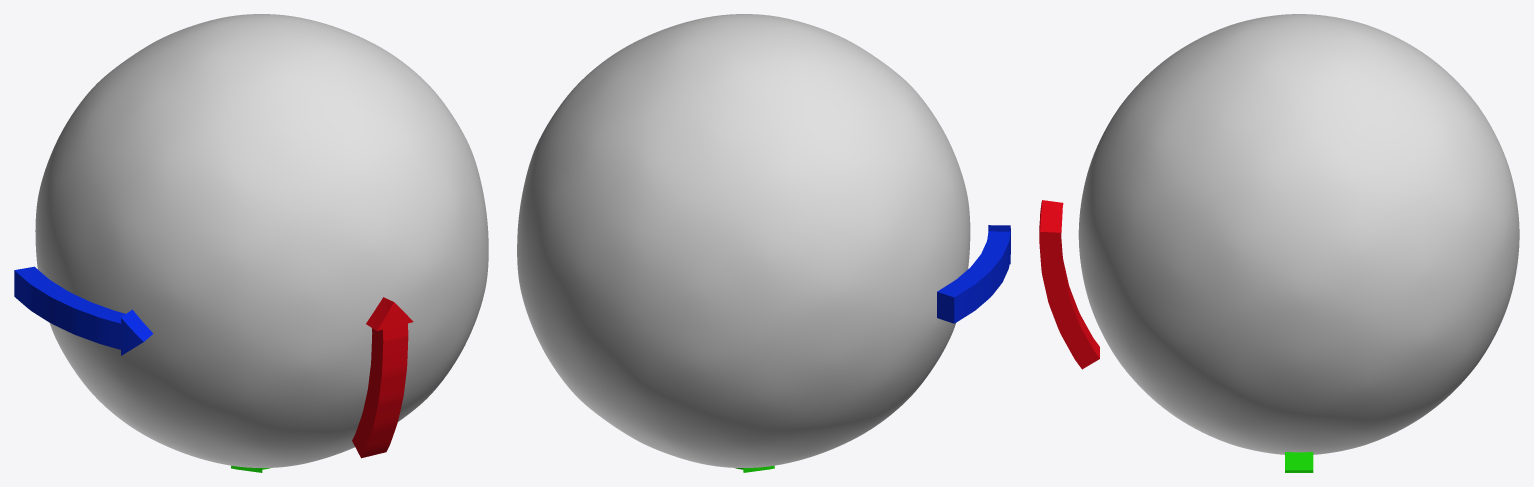
The picture shows the model from 3 angles, left to right: view 1: azimuth 30°, elevation 25°; view 2: azimuth 150°, elevation 25°; view 3: azimuth 270°, elevation 25°; orthographic projection. The views are drawn at different scales.
Parts seen in each view (by area): view 1: Icosphere, y-arrow, x-arrow; view 2: Icosphere, x-arrow; view 3: Icosphere, y-arrow, z-arrow.
Part boxes in pixels (<box>): Icosphere: <box>35,14,488,467</box>; y-arrow: <box>352,297,413,458</box>; x-arrow: <box>14,266,153,355</box>; Icosphere: <box>517,14,970,467</box>; x-arrow: <box>937,225,1010,323</box>; Icosphere: <box>1078,14,1519,454</box>; y-arrow: <box>1039,200,1099,369</box>; z-arrow: <box>1285,452,1313,472</box>.
Bounding box in the file's own units: 201 × 193 × 201.
